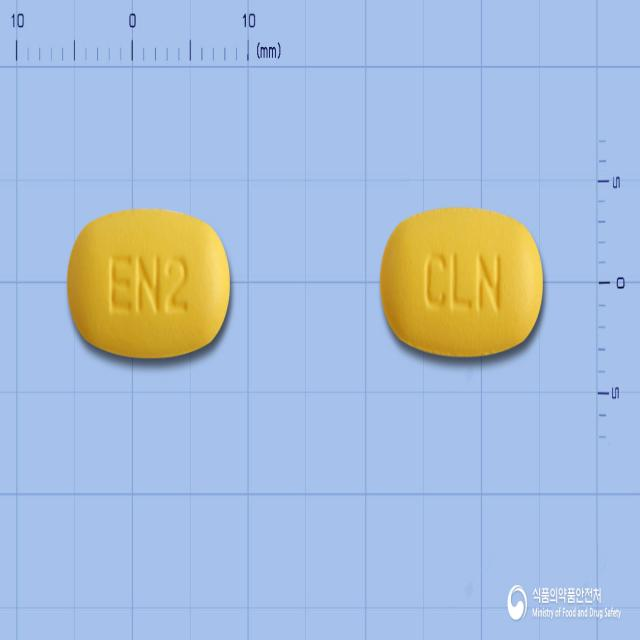Criacin: (67, 207, 231, 359), (380, 208, 544, 358)
